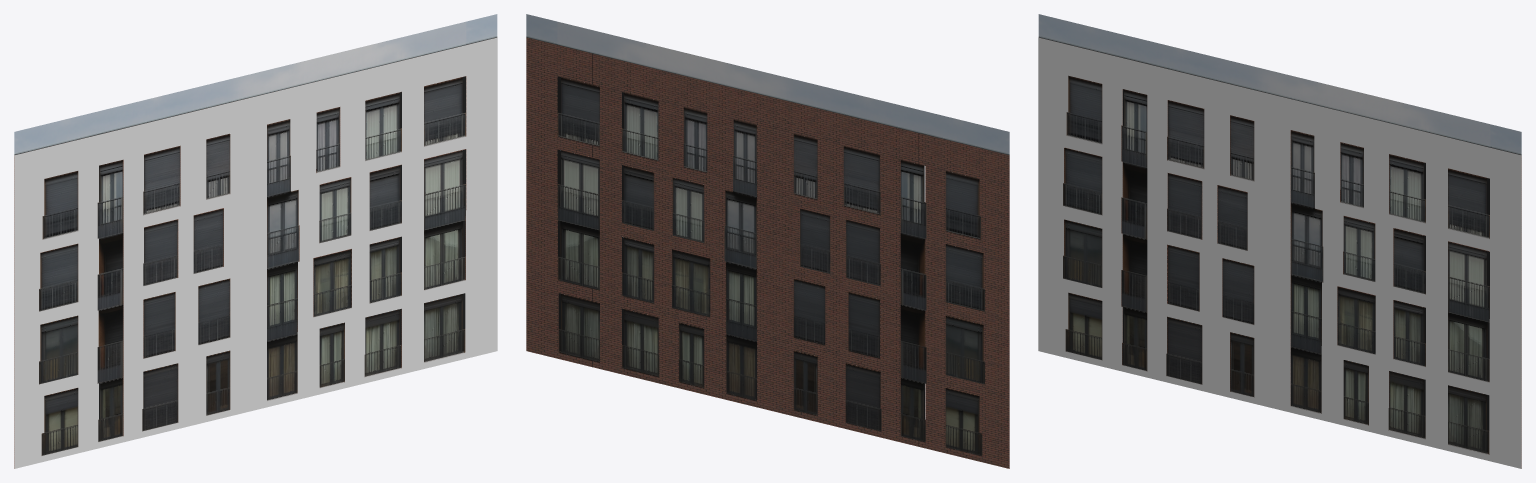
File: place-bina.glb
3 views of the same model, side by side, from view 1: azimuth 30°, elevation 25°; view 2: azimuth 150°, elevation 25°; view 3: azimuth 330°, elevation 25° (orthographic).
Parts seen in each view (by area): view 1: 3; view 2: 3; view 3: 3.
Boxes of the visible parts, left/top/right/bottom form: 3: left=14, top=14, right=497, bottom=468; 3: left=526, top=14, right=1009, bottom=468; 3: left=1038, top=14, right=1521, bottom=468.
Bounding box in the file's own units: 1.5 × 1 × 0.000815.
5 materials, 4 textured.
